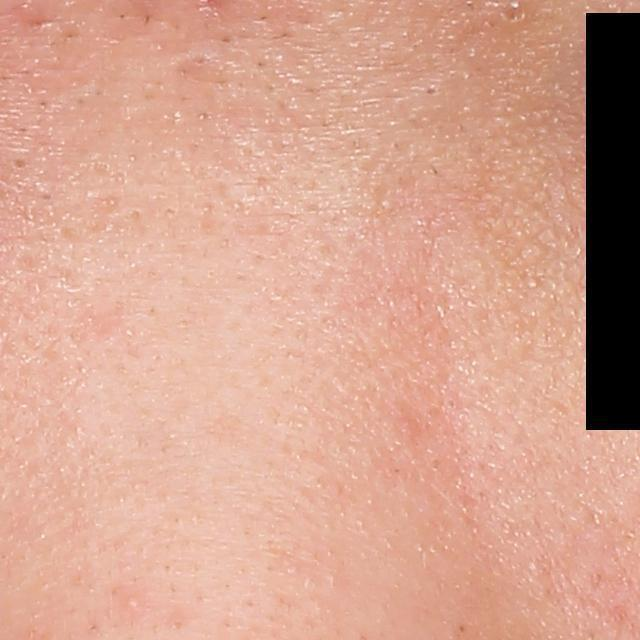comedo: (190, 52, 212, 71), (123, 594, 143, 613), (8, 154, 29, 172), (421, 84, 440, 98)
